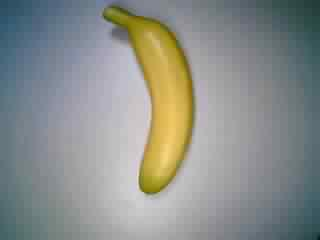banana: (97, 2, 198, 196)
